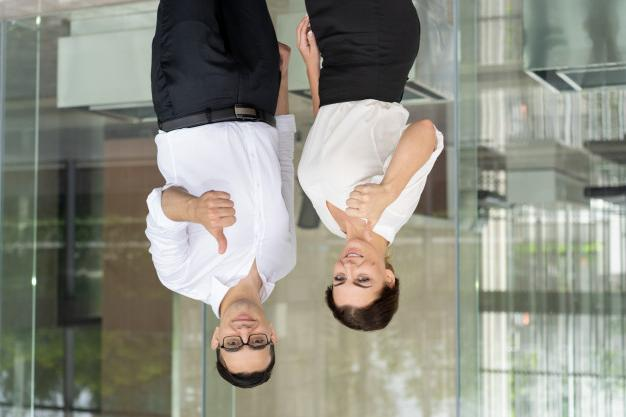thumbsdown: (204, 190, 237, 255), (345, 184, 373, 243)
